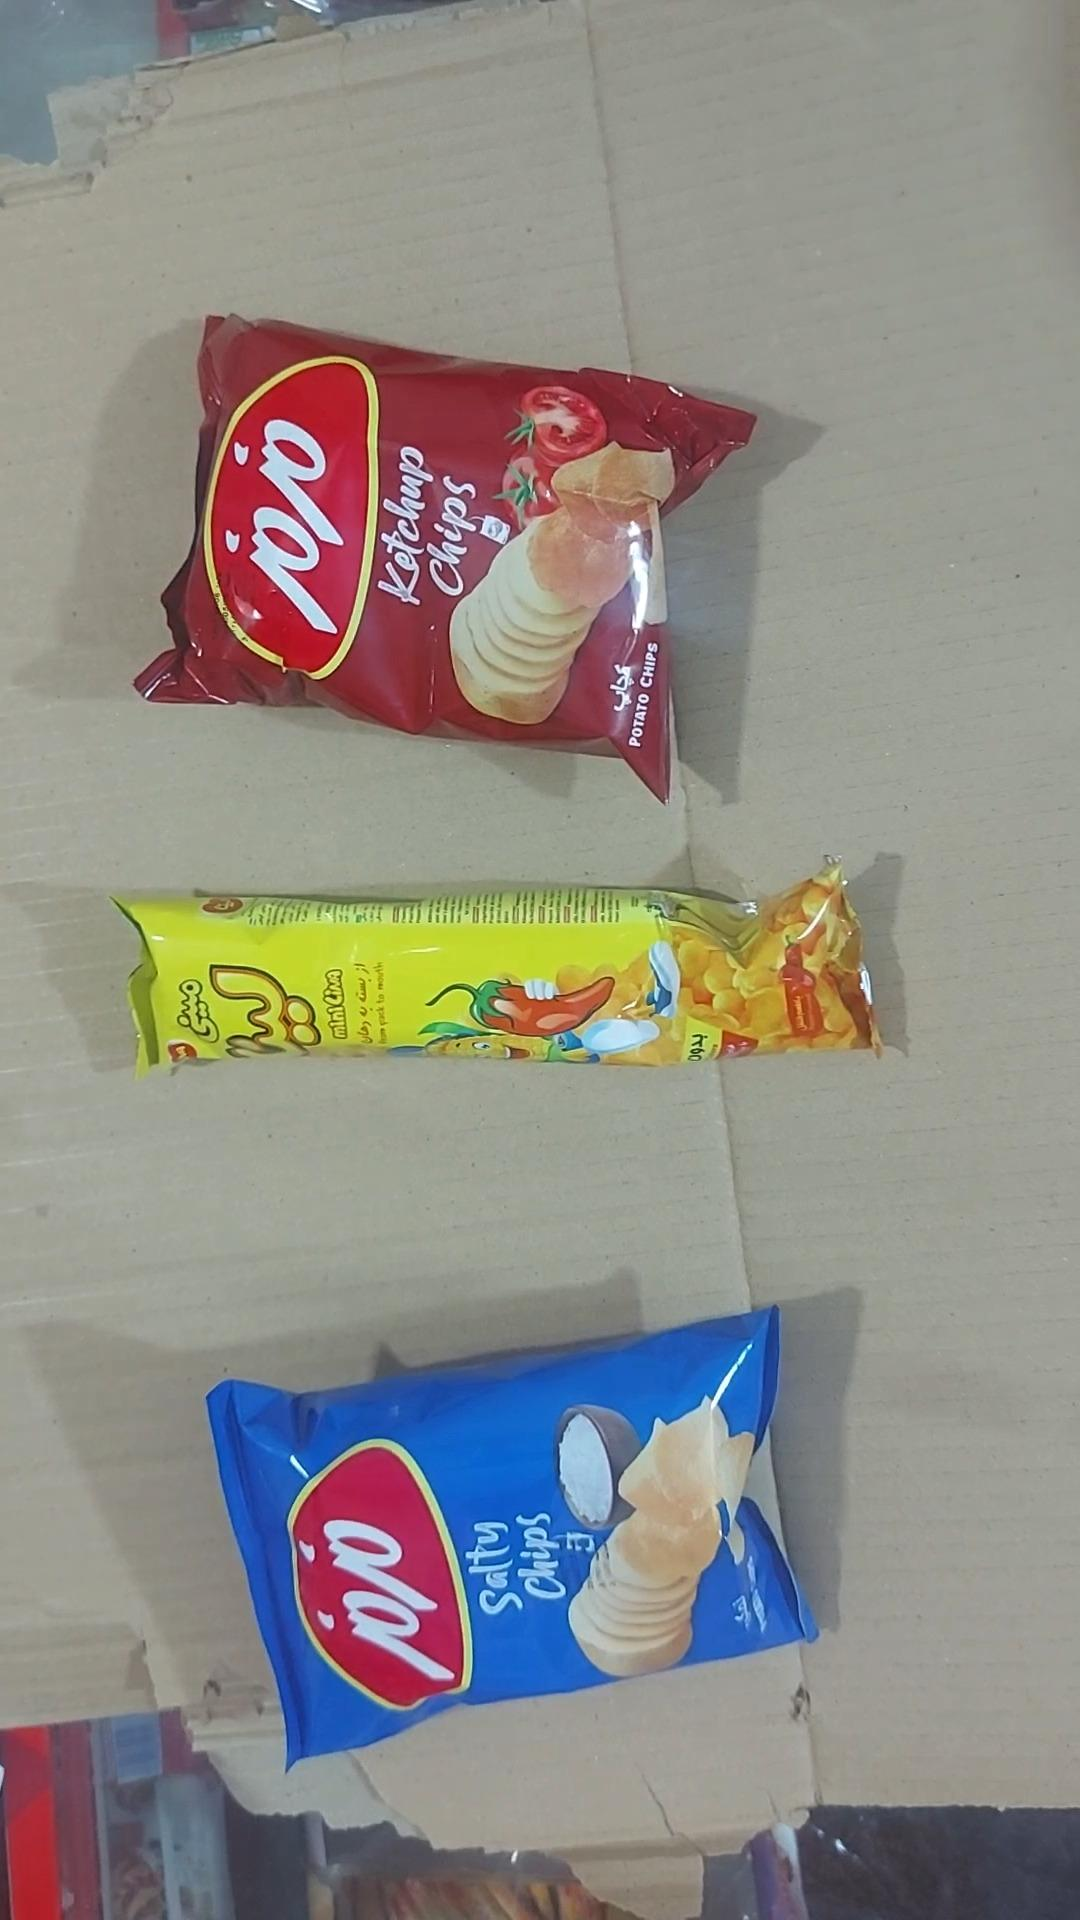Maz Maz ketchup chips: (135, 316, 756, 802)
Maz Maz salty chips: (208, 1309, 815, 1767)
Mini Lina: (115, 866, 881, 1076)
